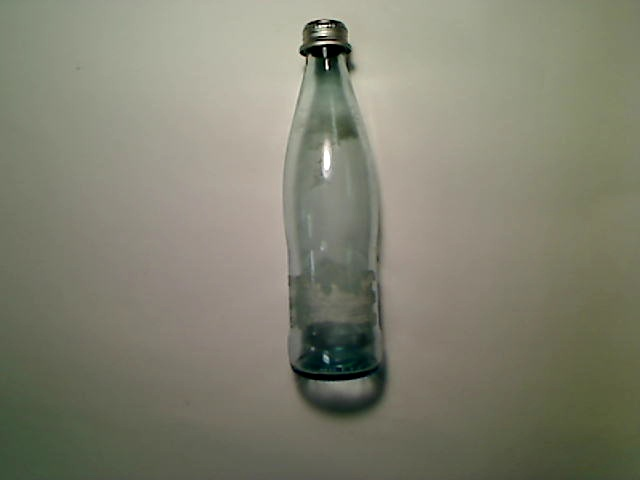bottle: (281, 19, 388, 382)
